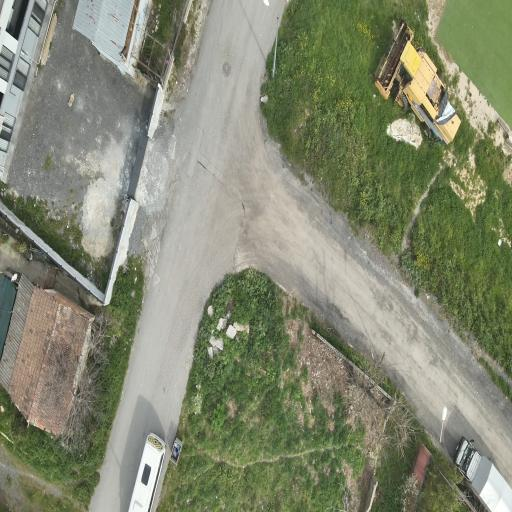car: (454, 437, 511, 511), (129, 433, 166, 511)
harvester: (375, 20, 460, 144)
